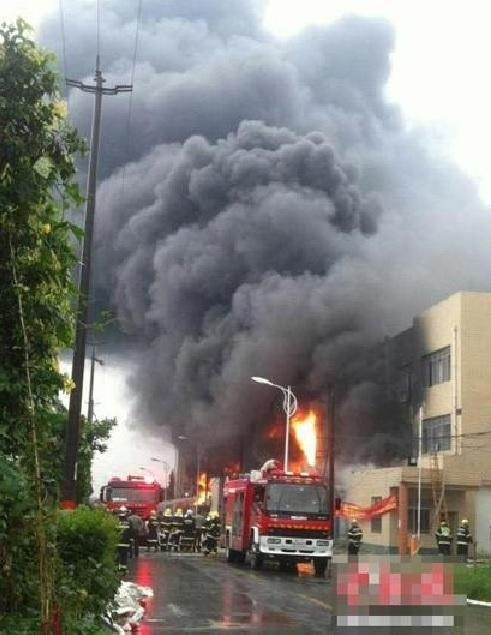fire: (288, 406, 318, 469), (193, 471, 212, 505)
